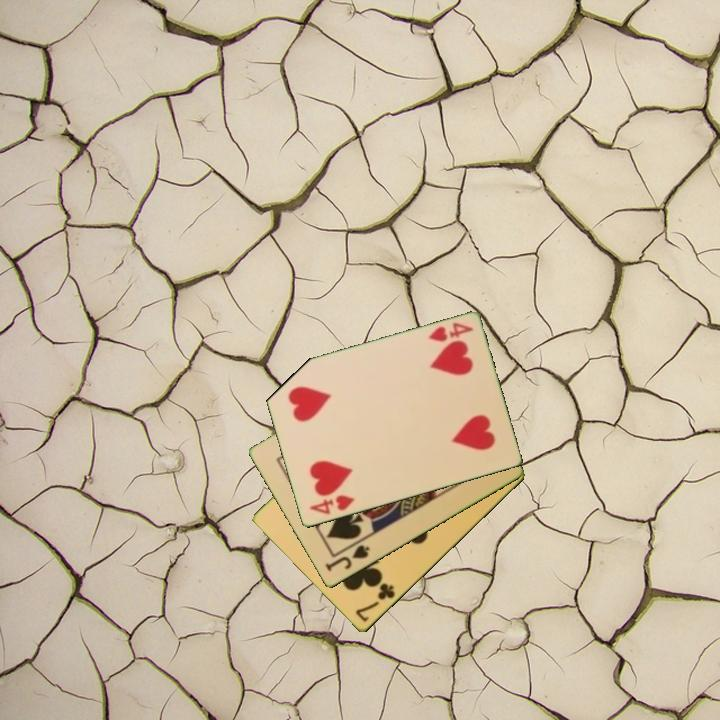4h: (306, 492, 358, 518), (425, 319, 476, 345)
7c: (352, 580, 398, 625)
Js: (322, 542, 373, 575)
